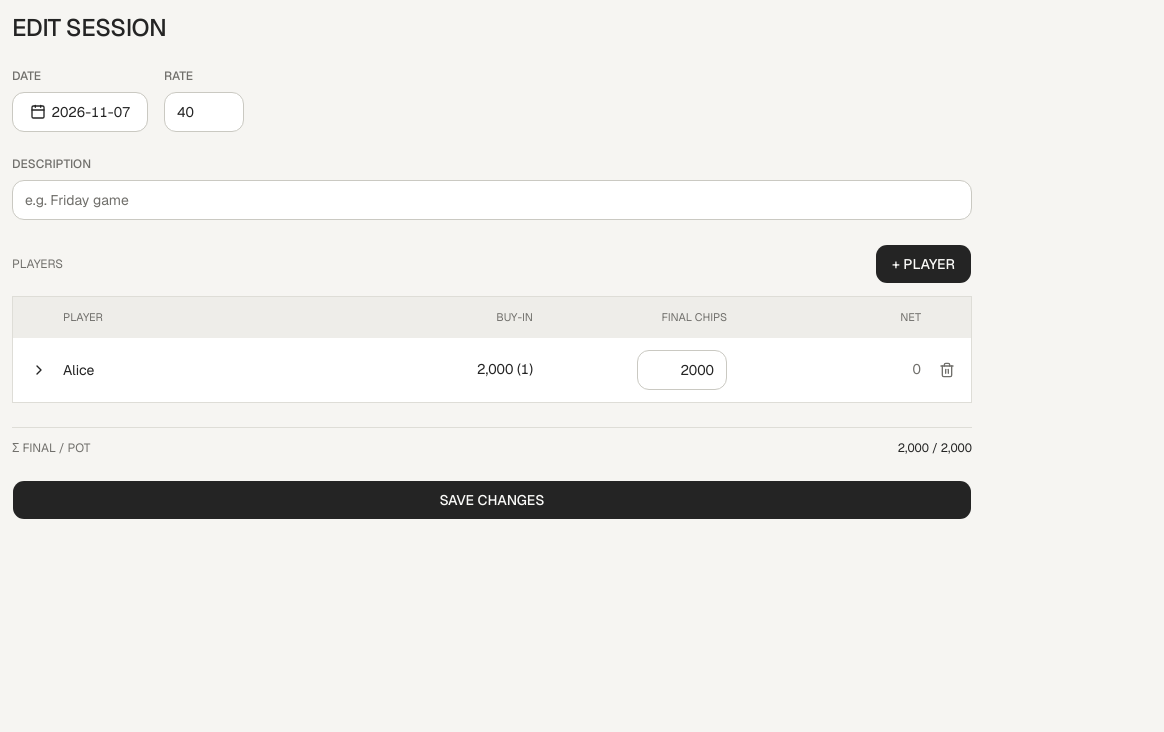
Test case: rejects invalid calendar dates before saving
The width and height of the screenshot is (1164, 732).
Click the text "Alice" at (79, 370), box [63,360,94,378]
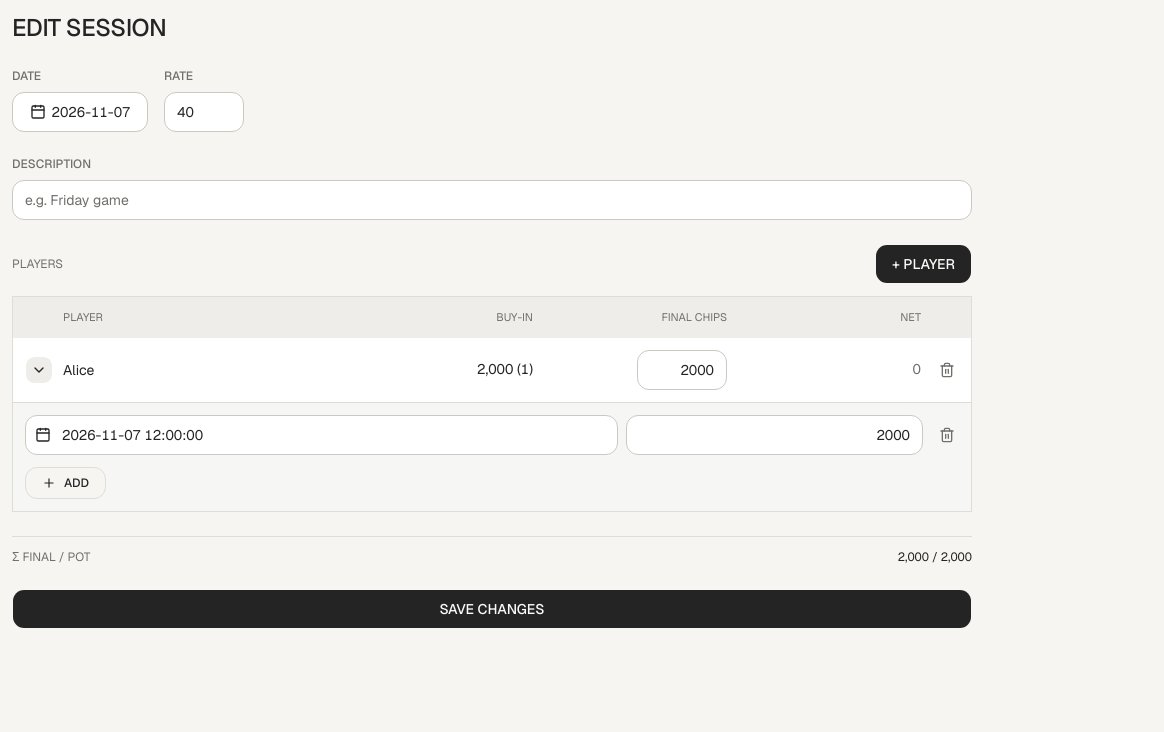
Replace the text in the field named "buy-in time for Alice" with "2026-02-30 12:00:00" at (322, 434), box [25,414,618,454]
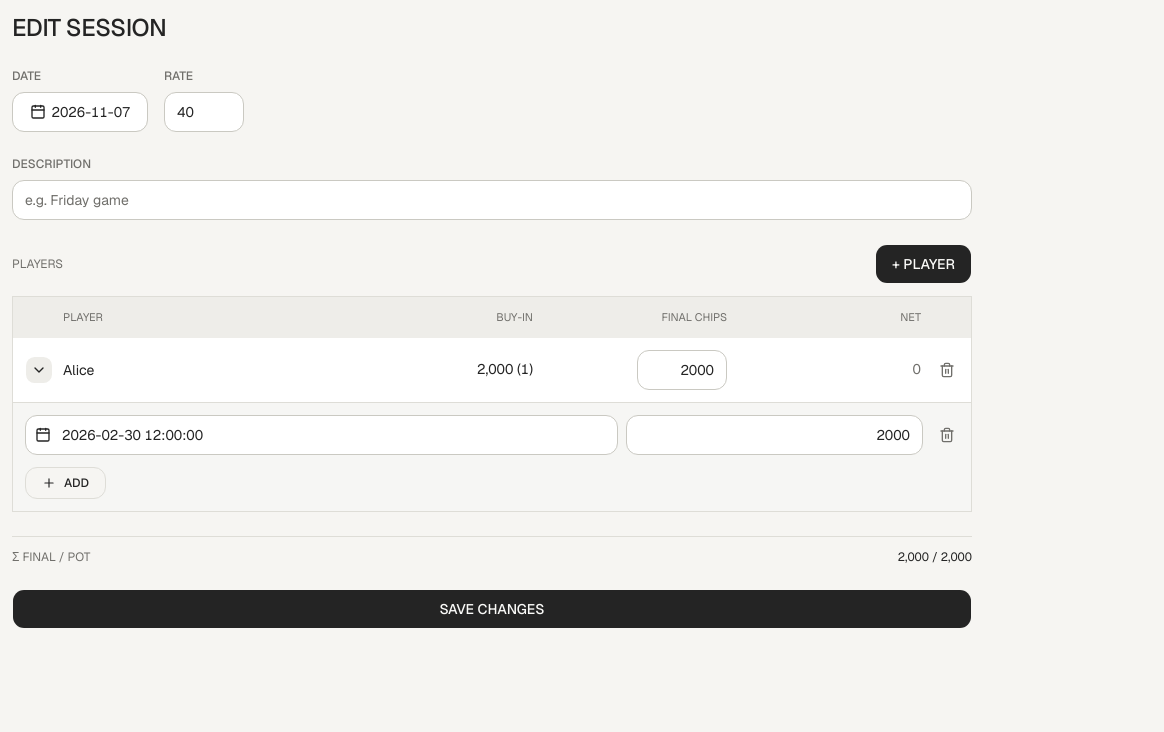
Click the button "SAVE CHANGES" at (492, 608), box [12,588,972,628]
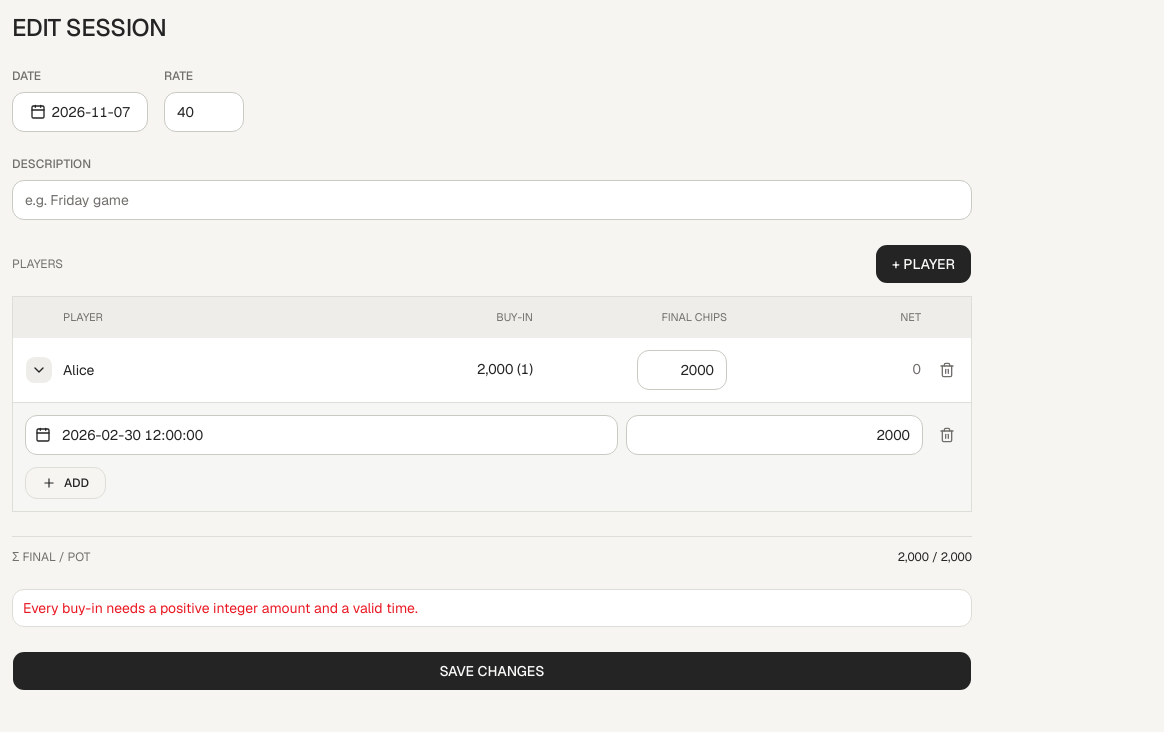
Now the message shows "valid time", box [23,598,418,616]
